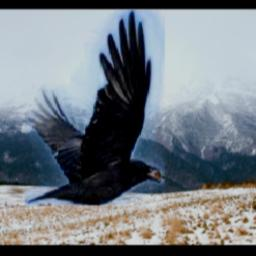Crow: (26, 10, 166, 205)
